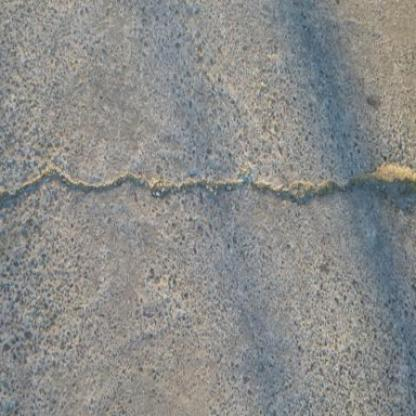Cracks: (0, 161, 415, 223)
